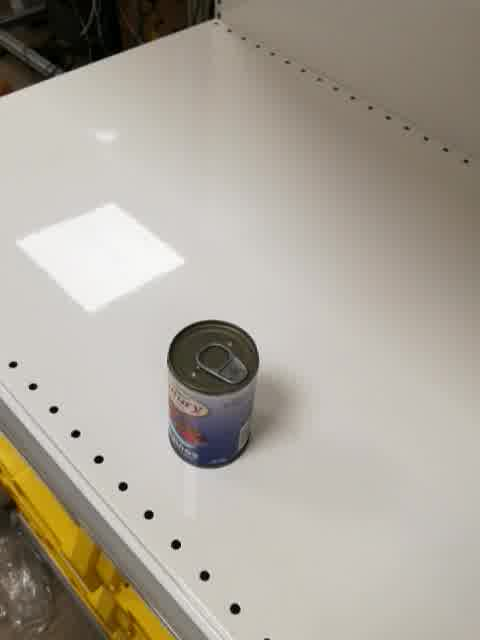sardine: (165, 319, 262, 469)
